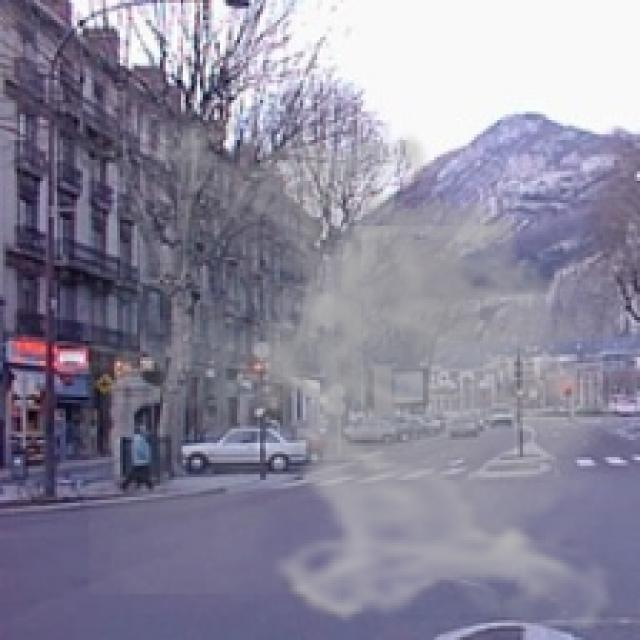Smoke: (88, 99, 638, 632)
